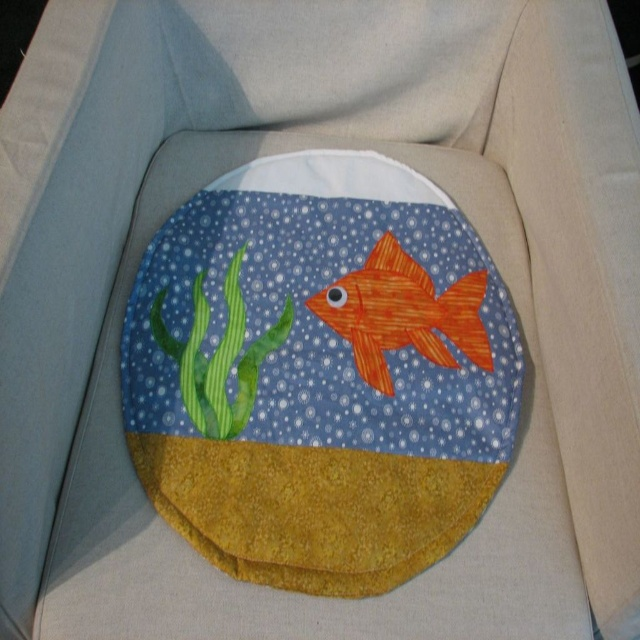Goldfish: (307, 228, 494, 398)
